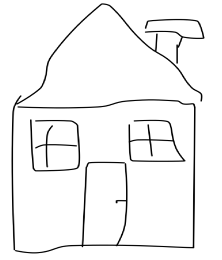big_house: (0, 0, 222, 259)
chimney: (141, 13, 209, 76)
closed_window: (22, 114, 83, 177), (123, 115, 189, 169)
door: (73, 156, 133, 249)
roof: (3, 1, 208, 113)
wall: (9, 98, 203, 255)
